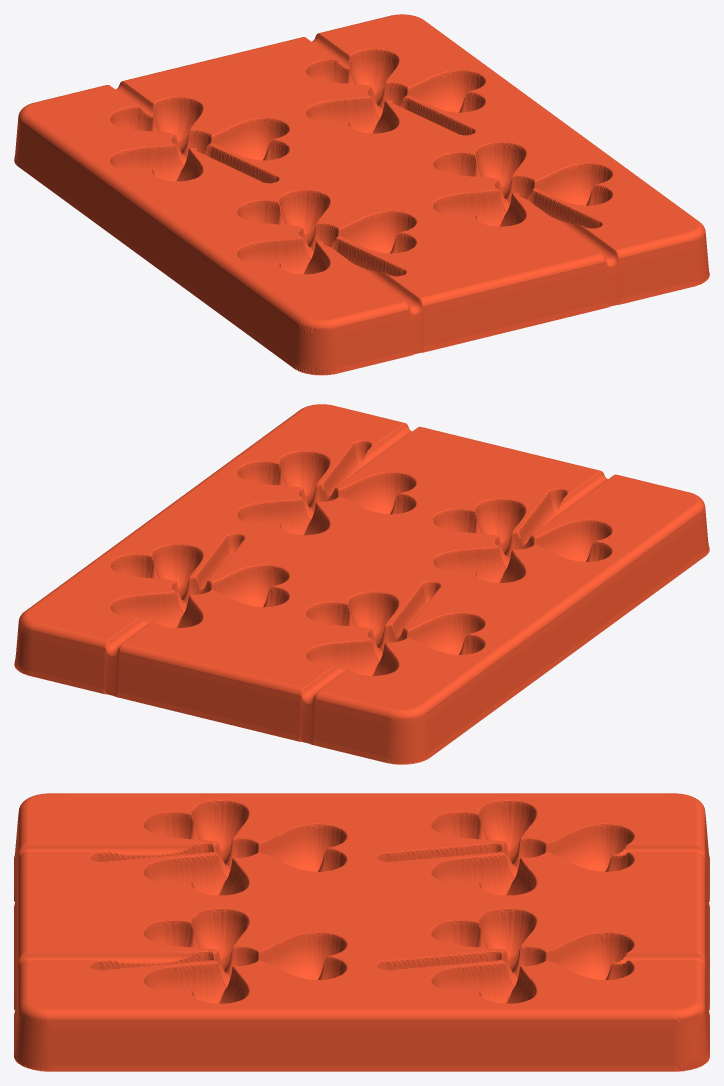
File: mold.glb
3 renders of one model, top to bottom at view 1: azimuth 30°, elevation 25°; view 2: azimuth 150°, elevation 25°; view 3: azimuth 270°, elevation 25°, orthographic. The views are drawn at different scales.
Parts seen in each view (by area): view 1: geometry_0; view 2: geometry_0; view 3: geometry_0.
Part boxes in pixels (bbox=[...]): geometry_0: bbox=[14, 14, 709, 375]; geometry_0: bbox=[14, 404, 709, 764]; geometry_0: bbox=[14, 793, 709, 1071].
Size of the model in its own units: 0.134 by 0.0155 by 0.1735.
